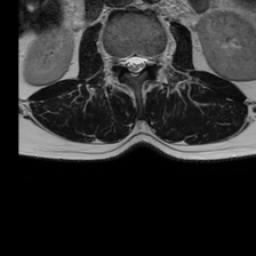CCS_normal: (131, 45, 139, 83)
LFS_normal: (147, 45, 155, 73)
LLS_normal: (139, 45, 147, 75)
RFS_normal: (116, 46, 123, 74)
RLS_normal: (123, 46, 131, 76)
